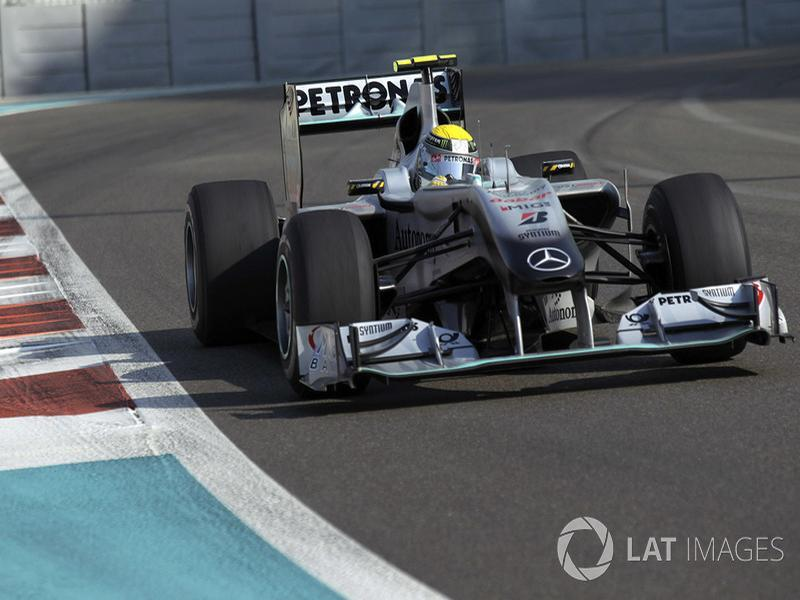f1: (187, 51, 785, 397)
